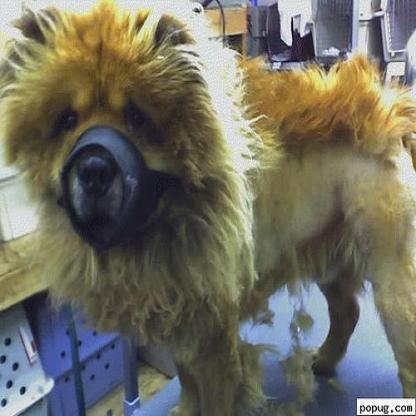chow: (0, 0, 414, 414)
